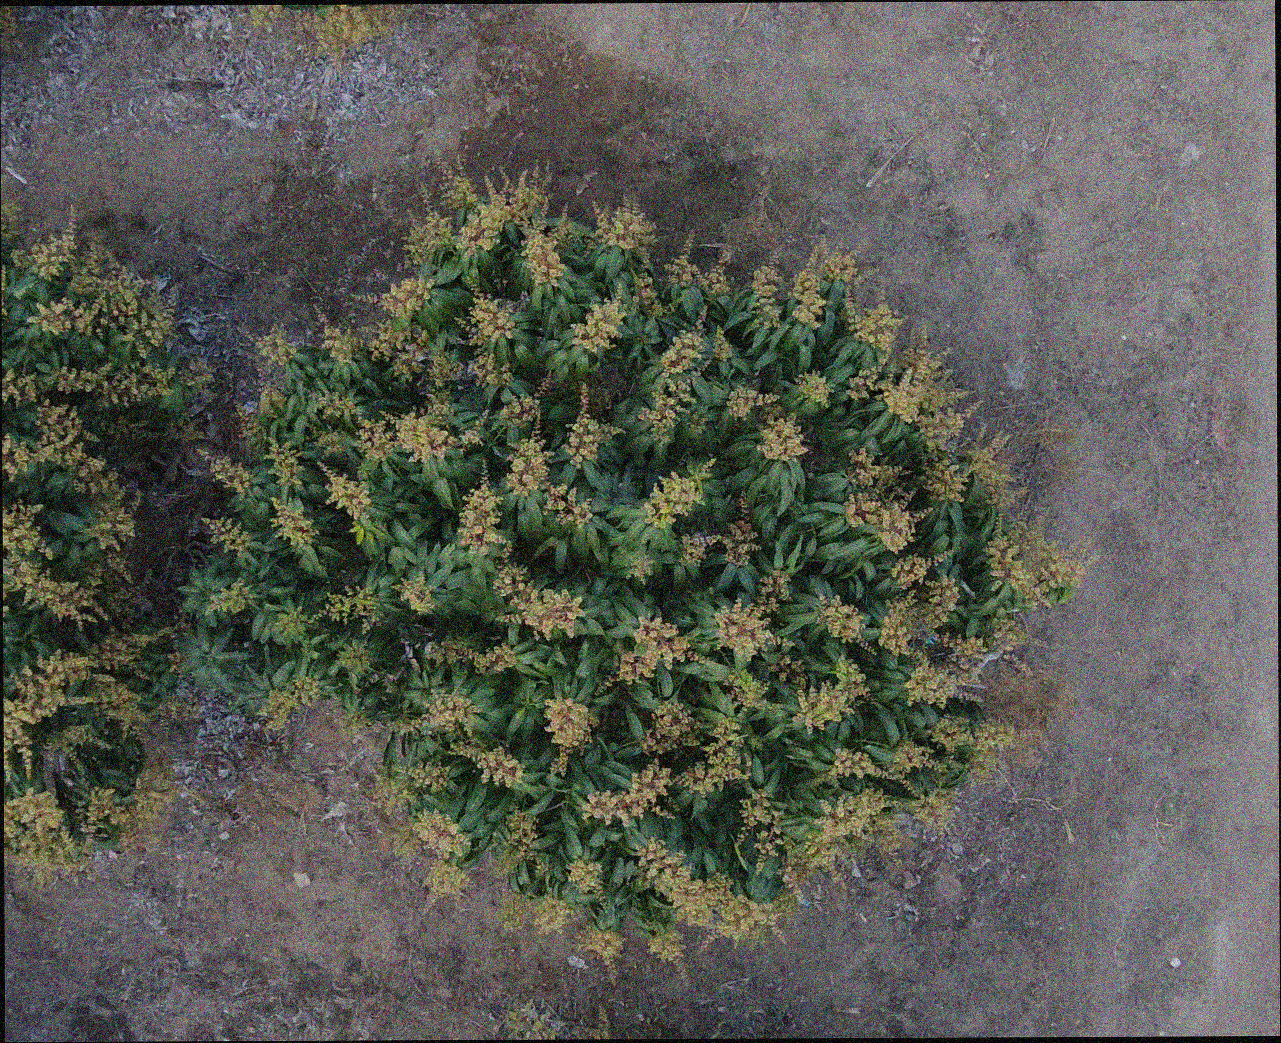flowers: (3, 633, 159, 773), (2, 400, 134, 551), (17, 233, 172, 358), (878, 578, 1027, 707), (583, 717, 745, 822), (637, 839, 795, 940), (846, 335, 980, 449), (445, 172, 573, 287), (2, 501, 107, 626), (398, 690, 523, 788), (784, 788, 892, 888), (984, 521, 1094, 607), (85, 749, 177, 850), (357, 390, 482, 462), (637, 313, 705, 444), (506, 420, 592, 524), (844, 448, 924, 552), (602, 616, 701, 689), (318, 314, 428, 379), (4, 791, 81, 882), (493, 564, 584, 639), (791, 238, 862, 329), (298, 4, 406, 62), (726, 386, 806, 461), (44, 363, 173, 407), (409, 810, 468, 905), (680, 495, 759, 566), (795, 658, 868, 729), (643, 457, 715, 528), (563, 381, 621, 468), (822, 742, 944, 783), (960, 434, 1022, 510), (457, 475, 511, 556), (843, 287, 904, 355), (544, 698, 598, 775), (665, 234, 731, 297), (714, 601, 781, 661), (373, 762, 450, 814), (504, 1001, 610, 1039), (572, 286, 628, 352), (45, 724, 123, 769), (739, 790, 783, 872), (425, 635, 517, 674), (594, 201, 658, 256), (494, 810, 544, 877), (354, 276, 433, 317), (498, 892, 572, 936), (259, 677, 319, 730), (931, 715, 1014, 754), (102, 415, 200, 447), (639, 701, 699, 754), (426, 354, 513, 390), (319, 463, 371, 520), (466, 288, 515, 347), (727, 669, 783, 719), (316, 586, 378, 631), (103, 554, 138, 632), (404, 211, 453, 264), (197, 448, 251, 495), (819, 595, 867, 647), (891, 551, 952, 590), (271, 498, 317, 547), (246, 326, 297, 366), (578, 925, 623, 970), (751, 262, 781, 329), (633, 275, 677, 319), (200, 517, 250, 554), (909, 789, 954, 829), (647, 931, 686, 978), (754, 570, 791, 617), (566, 858, 603, 899), (266, 443, 302, 485), (207, 579, 251, 614), (396, 575, 434, 614), (500, 396, 540, 428), (274, 607, 313, 640), (769, 655, 806, 688), (796, 372, 831, 407), (2, 371, 39, 403), (181, 355, 214, 391), (577, 1005, 610, 1039), (157, 696, 201, 721), (317, 392, 355, 419), (236, 404, 264, 441), (338, 708, 372, 736), (337, 643, 369, 673), (257, 385, 286, 417), (312, 429, 345, 456), (249, 4, 282, 29), (160, 613, 192, 635), (712, 328, 732, 361), (1, 202, 18, 239), (628, 558, 653, 581), (168, 650, 183, 674), (688, 414, 705, 434)
